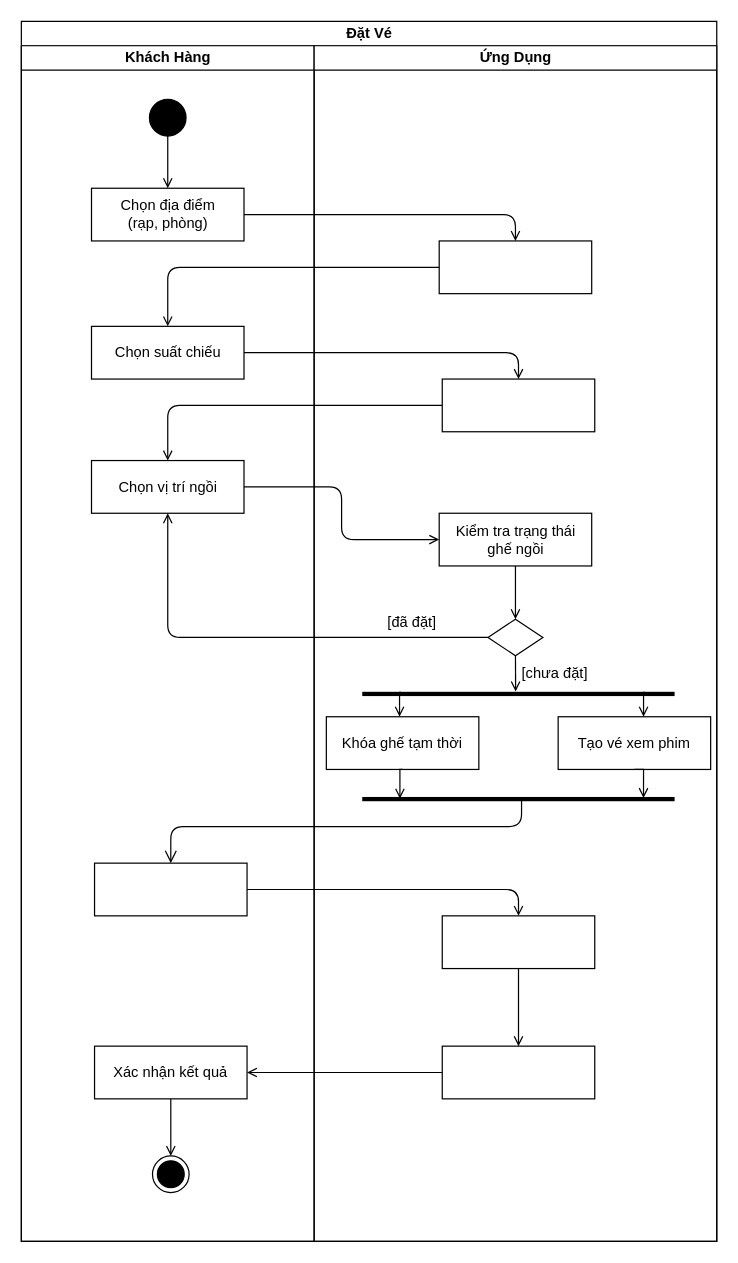
This 738x1263 diagram has some shape labels left out. The centre of each missing label's shape, as x and y in pixels:
Lấy danh sách ghế ngồi: the point at 518,405
Lấy danh sách suất chiếu: the point at 515,267
Thanh toán vé: the point at 170,889
Trả kết quả đặt vé: the point at 518,1072
Xử lý kết quả thanh toán: the point at 518,942
